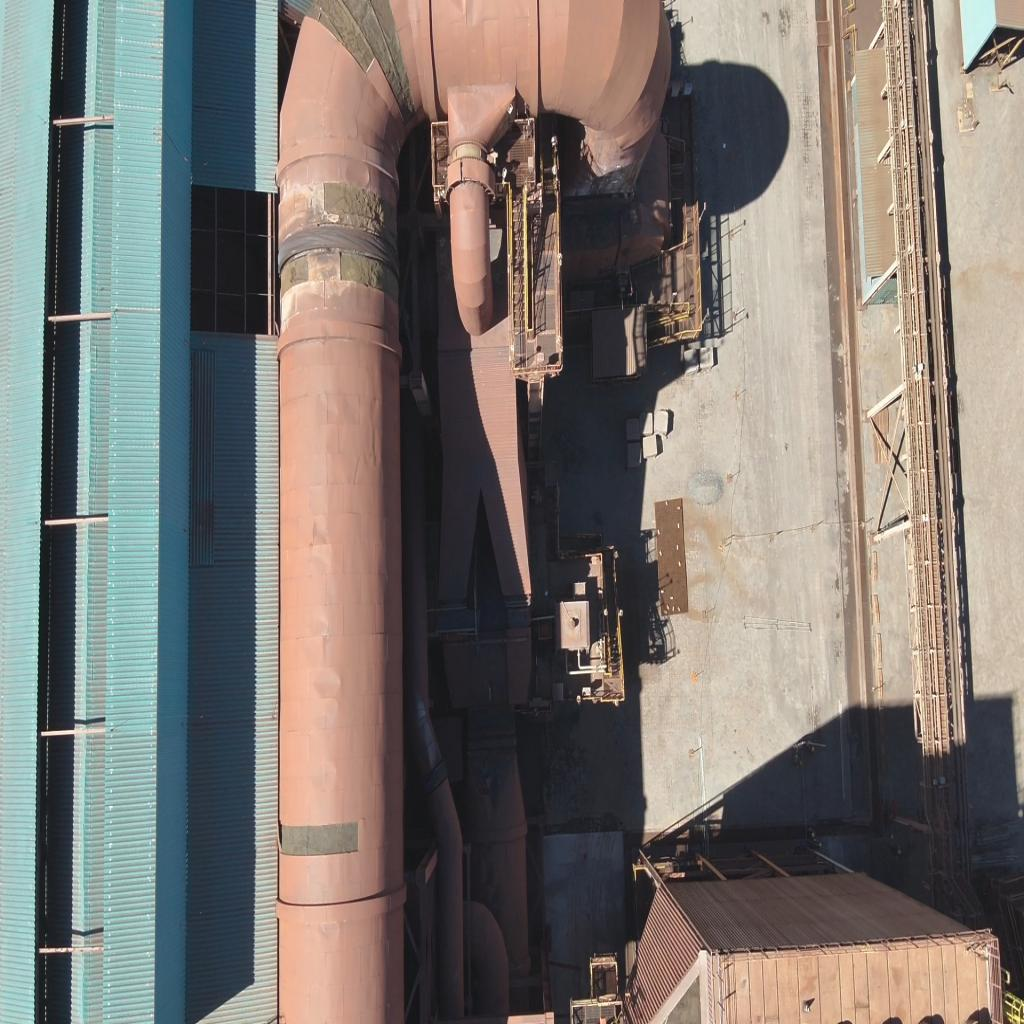Failures: (317, 0, 419, 114), (274, 810, 362, 860), (326, 178, 396, 236), (339, 245, 397, 297), (274, 257, 317, 294)
